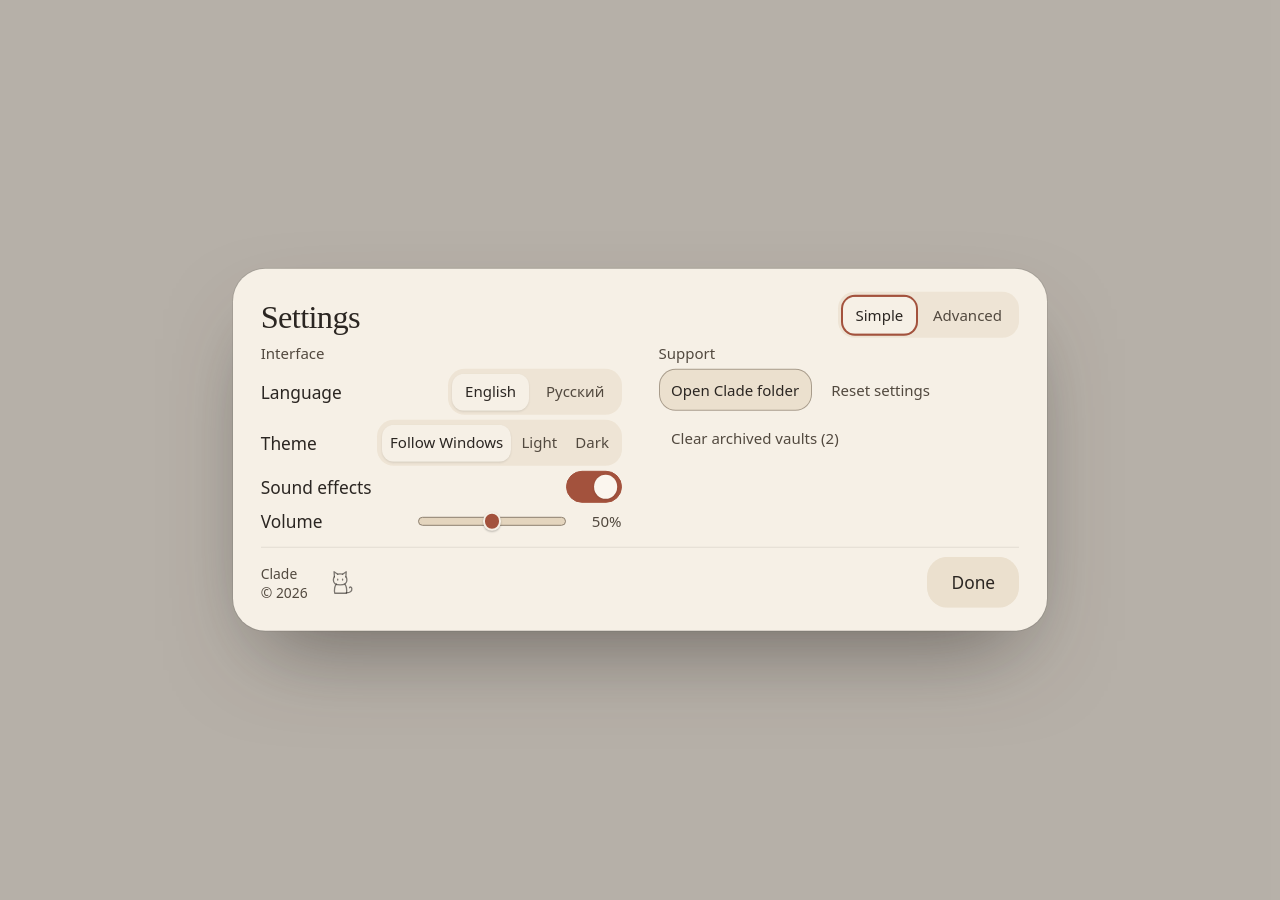
Test: Clearing archived vaults in Settings › surfaces a failure in plain words, re-enables Done, and allows retrying to success
Click the button "Clear archived vaults (2)" at (755, 438), box [658, 418, 851, 459]
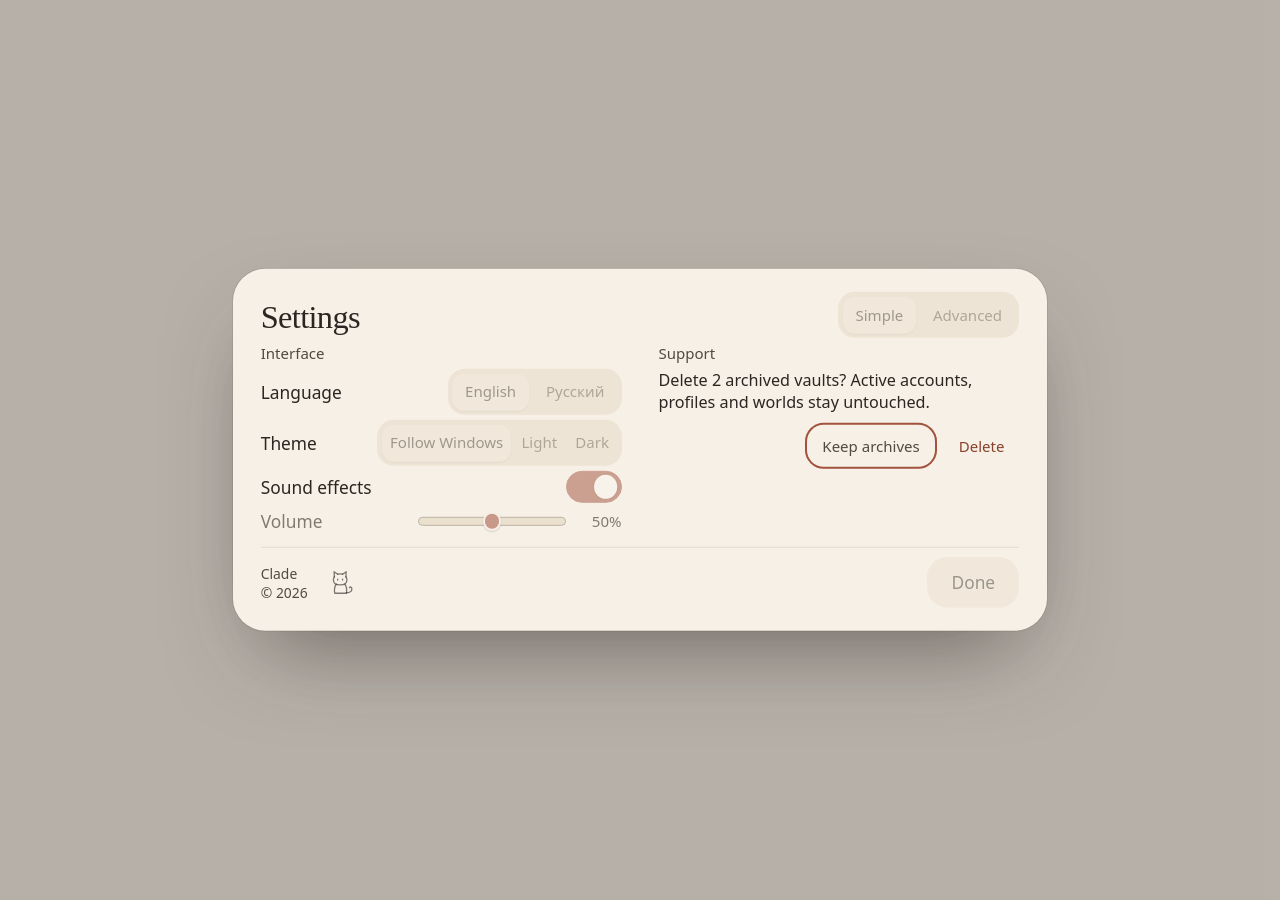
Click the button "Delete" at (982, 446), box [944, 425, 1019, 467]
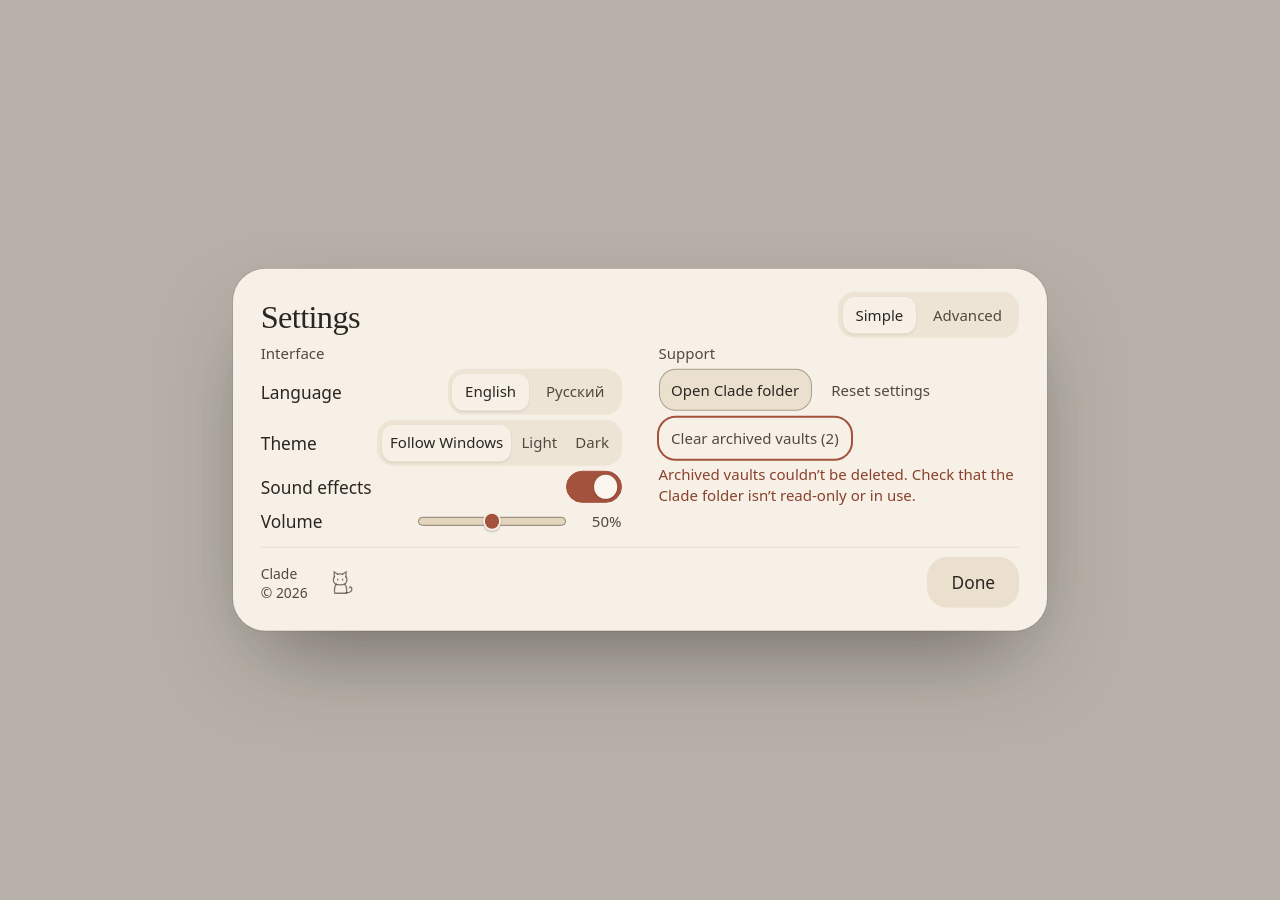
Now the message shows "Archived vaults couldn’t be deleted. Check that the Clade folder isn’t read-only or in use.", box [658, 464, 1014, 505]
Now the button "Done" is enabled, box [927, 557, 1019, 608]
Click the button "Clear archived vaults (2)" at (755, 438), box [658, 418, 851, 459]
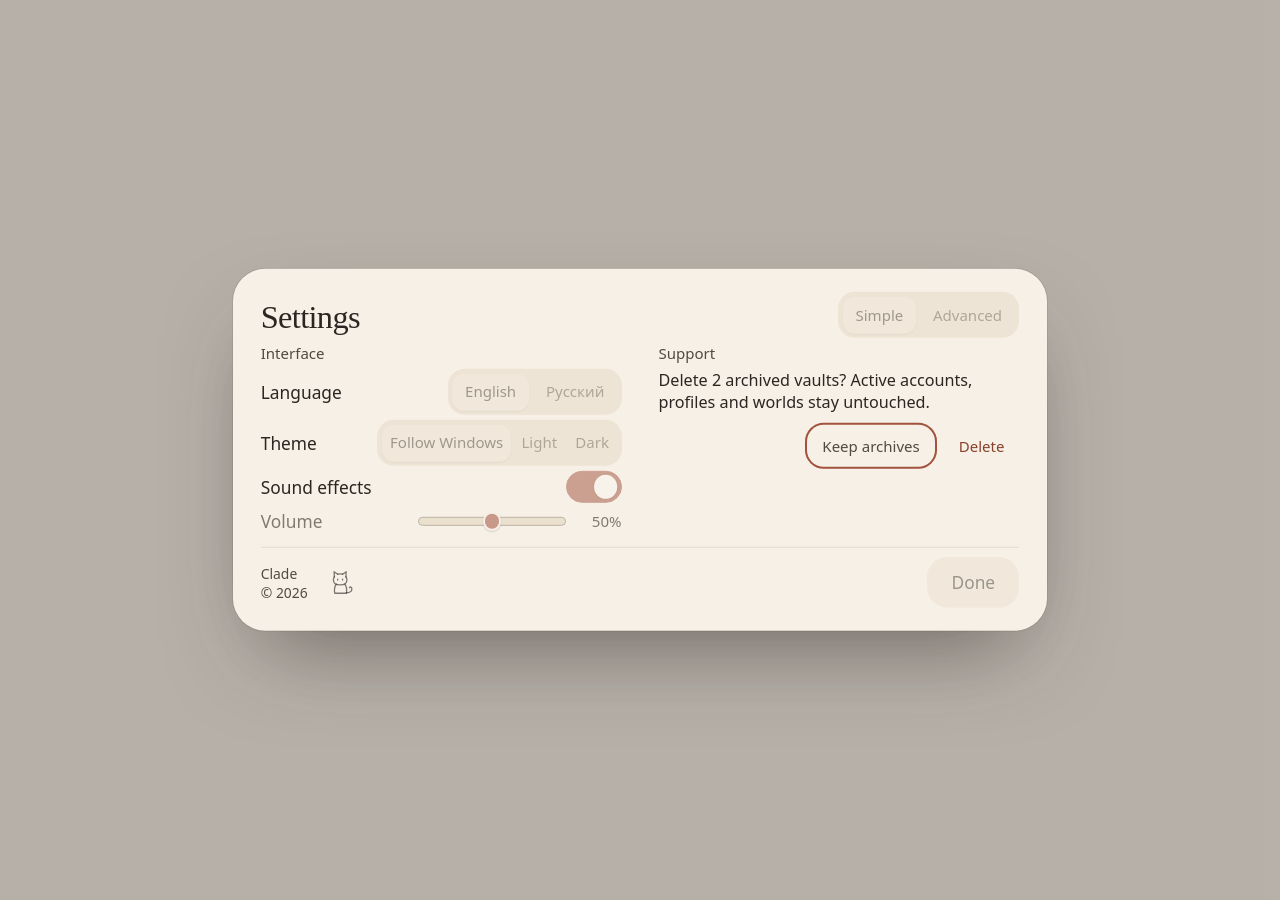
Now the message shows "Delete 2 archived vaults?", box [658, 369, 972, 413]
Now the button "Done" is disabled, box [927, 557, 1019, 608]
Click the button "Delete" at (982, 446), box [944, 425, 1019, 467]
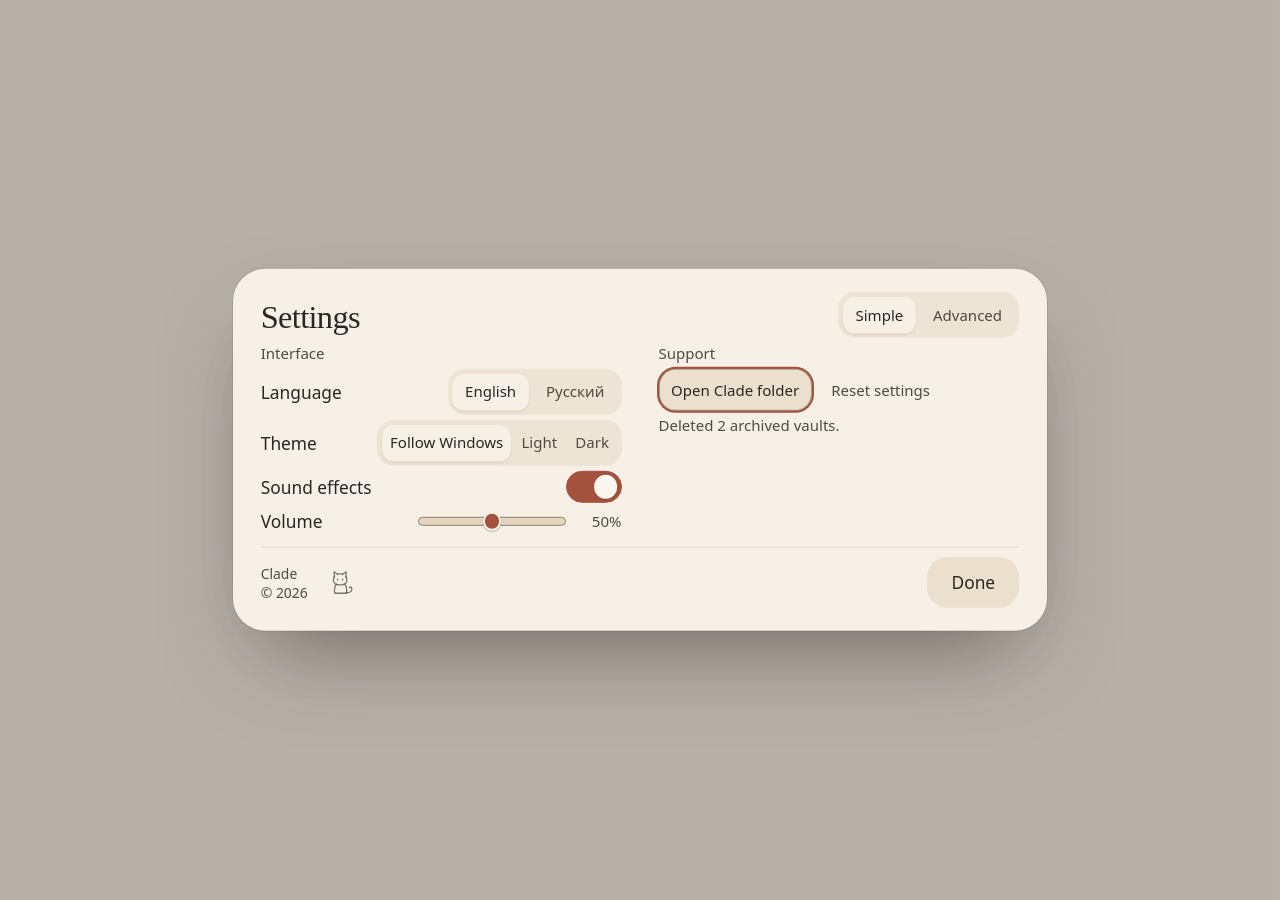
Expected: the button "Clear archived vaults" is not shown
Now the message reads "Deleted 2 archived vaults.", box [658, 415, 840, 435]
Now the button "Done" is enabled, box [927, 557, 1019, 608]
